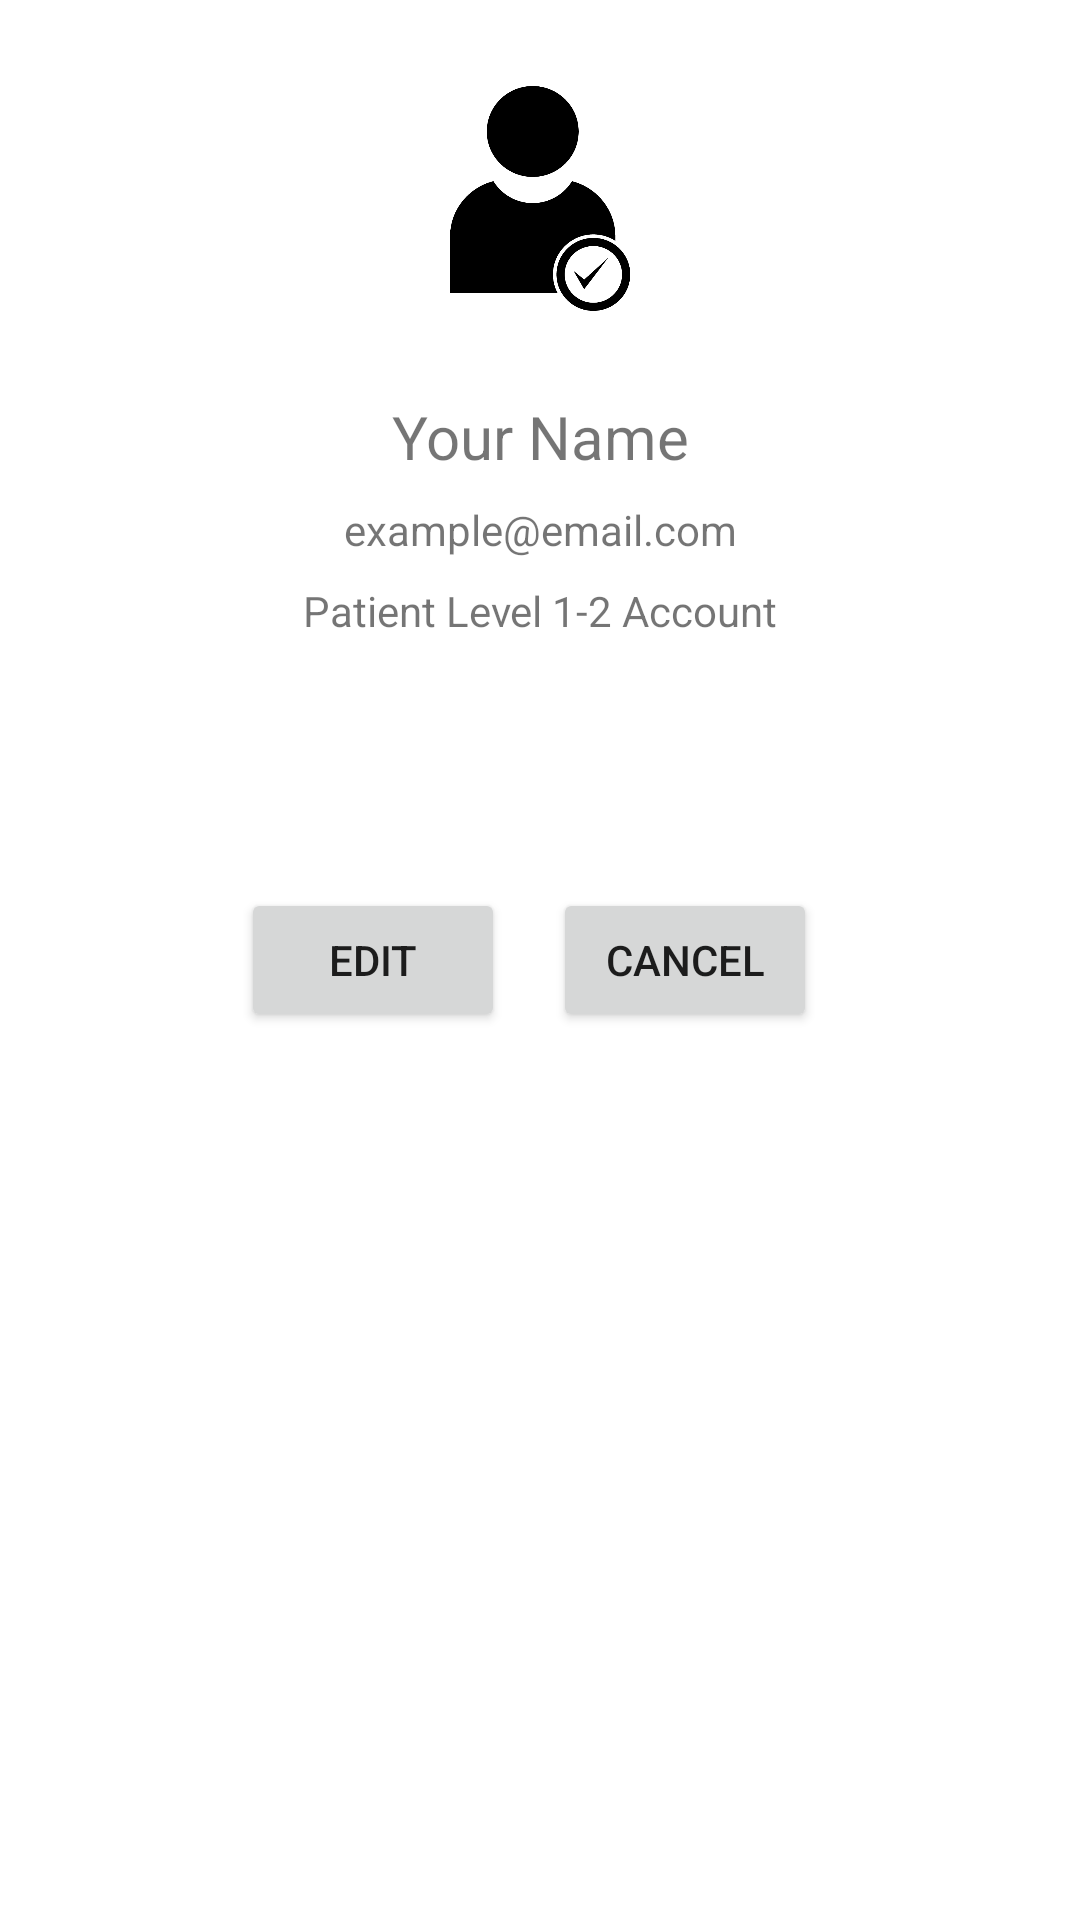

Icon click points for this 1080 × 1920 phone screenshot, format (x=x, y=y):
profile picture: (x=540, y=198)
